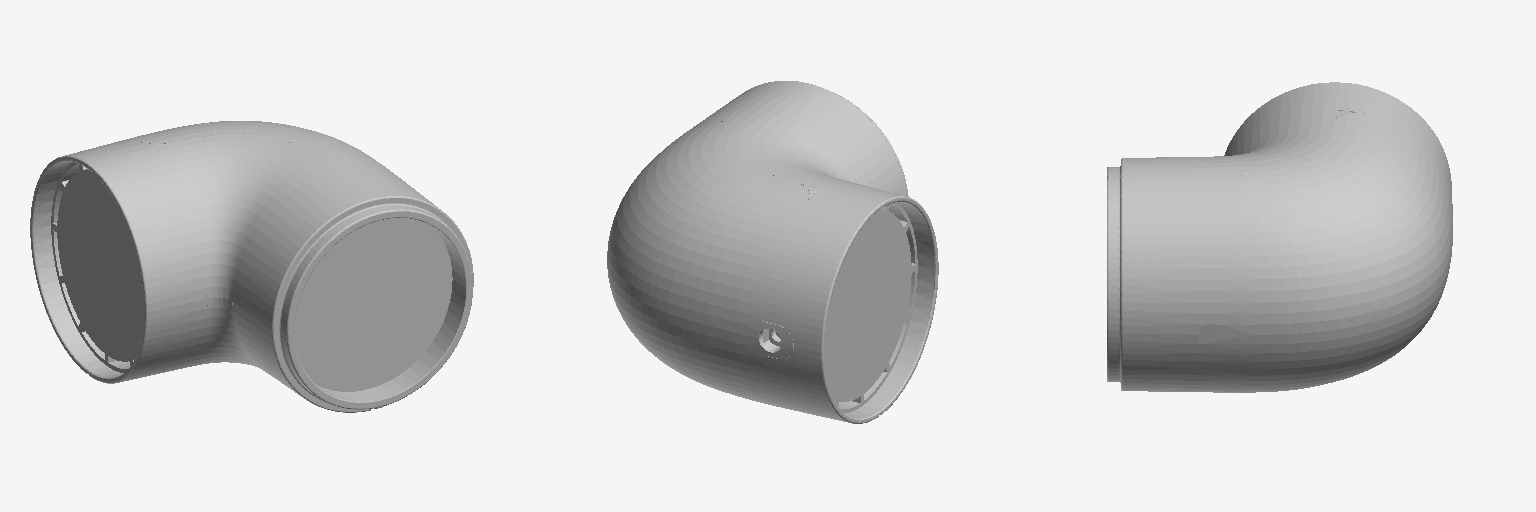
Rendered from joint5_new.obj.
The picture shows the model from 3 angles: view 1: azimuth 30°, elevation 25°; view 2: azimuth 150°, elevation 25°; view 3: azimuth 270°, elevation 25°; orthographic projection.
Parts seen in each view (by area): view 1: Mesh4 __4_1_1 __3_1_1 ___1_1 skpFACC1 Model, Mesh5 __4_1_1 __3_1_1 ___1_1 skpFACC1 Model, Mesh1 __2_1_1 __1_1_1 ___1_1 skpFACC1 Model; view 2: Mesh4 __4_1_1 __3_1_1 ___1_1 skpFACC1 Model, Mesh1 __2_1_1 __1_1_1 ___1_1 skpFACC1 Model, Mesh5 __4_1_1 __3_1_1 ___1_1 skpFACC1 Model; view 3: Mesh1 __2_1_1 __1_1_1 ___1_1 skpFACC1 Model, Mesh5 __4_1_1 __3_1_1 ___1_1 skpFACC1 Model, Mesh4 __4_1_1 __3_1_1 ___1_1 skpFACC1 Model.
Boxes of the visible parts, x1=… form: Mesh4 __4_1_1 __3_1_1 ___1_1 skpFACC1 Model: x1=30, y1=134, x2=404, y2=383; Mesh5 __4_1_1 __3_1_1 ___1_1 skpFACC1 Model: x1=232, y1=167, x2=473, y2=412; Mesh1 __2_1_1 __1_1_1 ___1_1 skpFACC1 Model: x1=126, y1=121, x2=378, y2=162; Mesh4 __4_1_1 __3_1_1 ___1_1 skpFACC1 Model: x1=684, y1=107, x2=938, y2=423; Mesh1 __2_1_1 __1_1_1 ___1_1 skpFACC1 Model: x1=607, y1=121, x2=808, y2=408; Mesh5 __4_1_1 __3_1_1 ___1_1 skpFACC1 Model: x1=707, y1=81, x2=908, y2=196; Mesh1 __2_1_1 __1_1_1 ___1_1 skpFACC1 Model: x1=1236, y1=113, x2=1452, y2=392; Mesh5 __4_1_1 __3_1_1 ___1_1 skpFACC1 Model: x1=1107, y1=157, x2=1198, y2=391; Mesh4 __4_1_1 __3_1_1 ___1_1 skpFACC1 Model: x1=1199, y1=82, x2=1451, y2=392.
Bounding box in the file's own units: 0.0528 × 0.0386 × 0.0563.